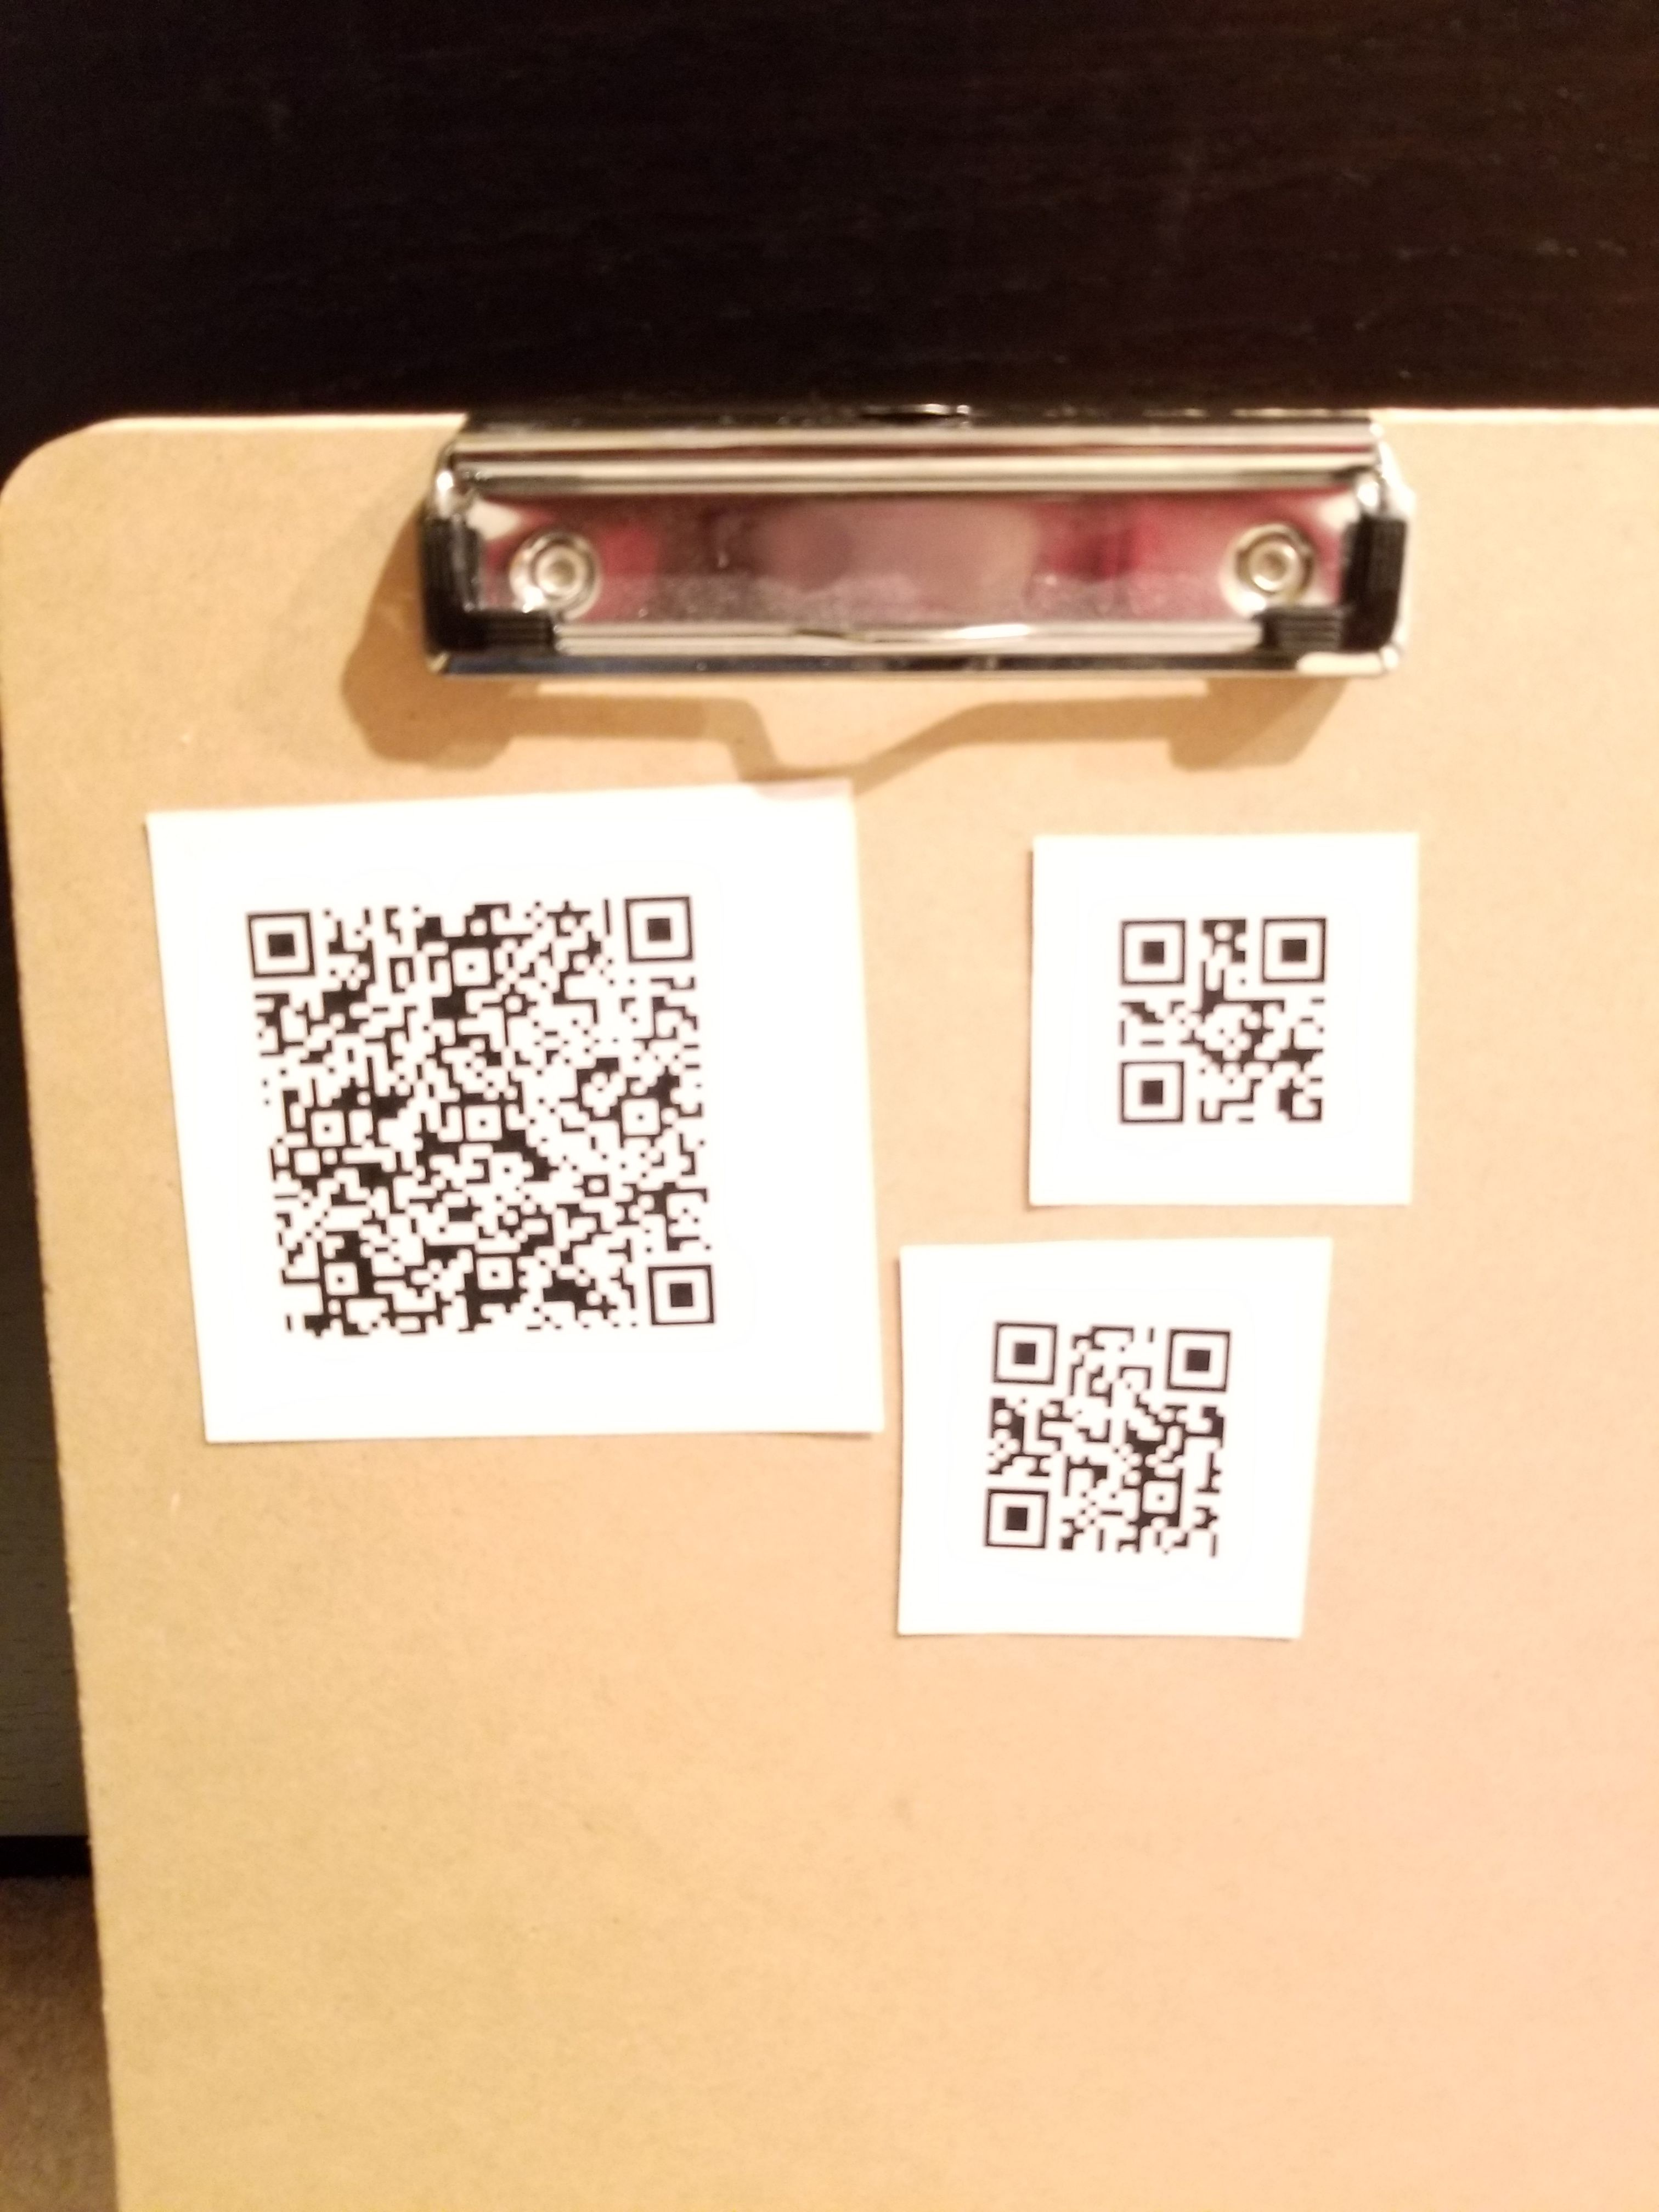QR_CODE: (223, 852, 744, 1395), (951, 1296, 1255, 1590), (1086, 873, 1371, 1174)
